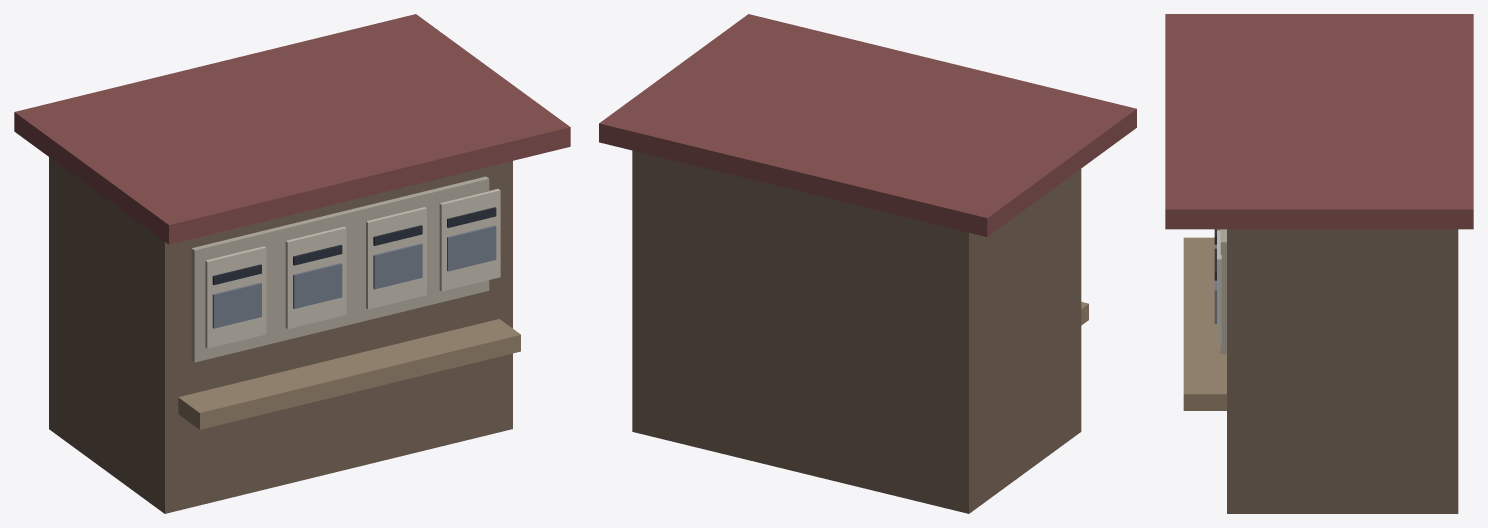
File: quiosco.glb
3 renders of one model, left to right at view 1: azimuth 30°, elevation 25°; view 2: azimuth 150°, elevation 25°; view 3: azimuth 270°, elevation 25°, orthographic. The views are drawn at different scales.
Parts seen in each view (by area): view 1: Quiosco; view 2: Quiosco; view 3: Quiosco.
Boxes of the visible parts, left/top/right/bottom form: Quiosco: left=14, top=14, right=570, bottom=513; Quiosco: left=599, top=14, right=1136, bottom=513; Quiosco: left=1165, top=14, right=1473, bottom=513.
Size of the model in its own units: 3 by 2.27 by 2.
